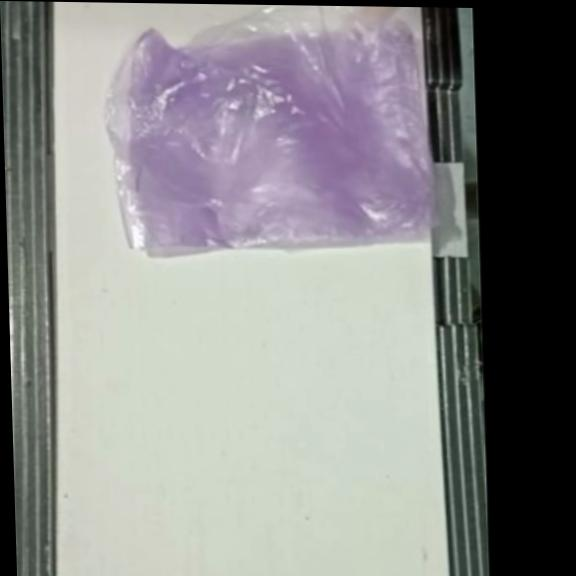Plastik: (102, 2, 440, 256)
